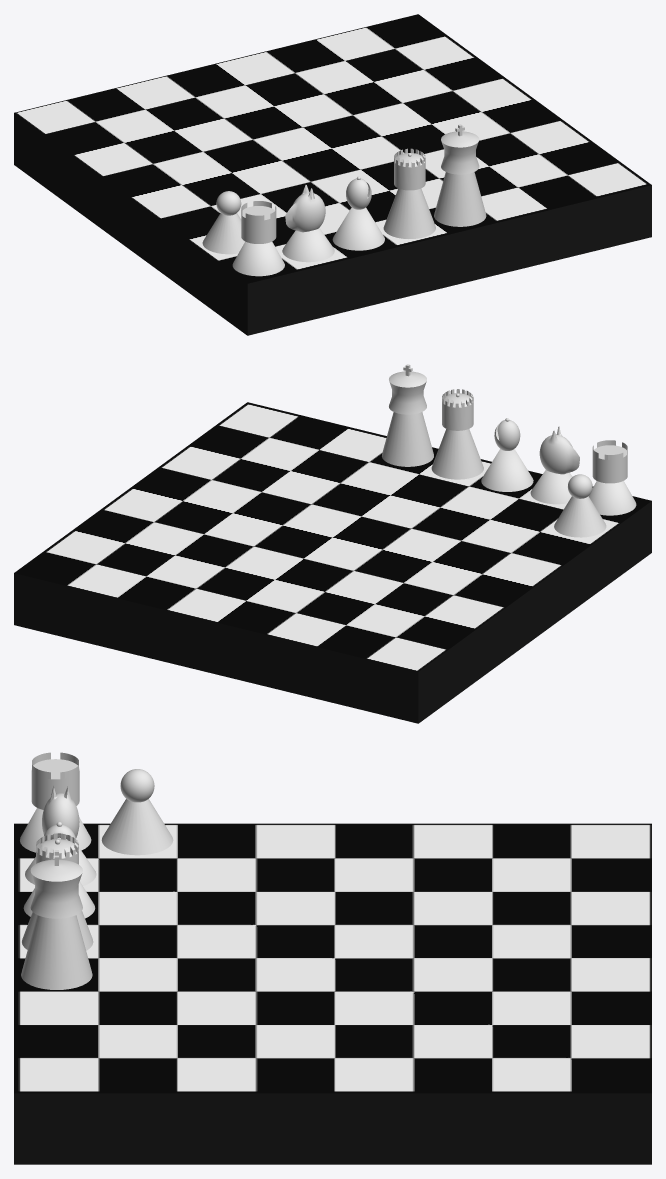
The model's file is ChessBoard.fbx.
The picture shows the model from 3 angles, top to bottom: view 1: azimuth 30°, elevation 25°; view 2: azimuth 150°, elevation 25°; view 3: azimuth 270°, elevation 25°; orthographic projection. The views are drawn at different scales.
Visible parts, largest first — view 1: ChessBoard, w.King.1, w.Queen.1, w.Rook.1, w.Knight.1, w.Bishop.1, w.Pawn.001; view 2: ChessBoard, w.King.1, w.Queen.1, w.Rook.1, w.Knight.1, w.Bishop.1, w.Pawn.001; view 3: ChessBoard, w.King.1, w.Pawn.001, w.Rook.1, w.Knight.1, w.Queen.1, w.Bishop.1.
Part boxes in pixels (<box>): ChessBoard: <box>14,14,651,335</box>; w.King.1: <box>434,124,486,226</box>; w.Queen.1: <box>383,148,435,238</box>; w.Rook.1: <box>232,201,284,276</box>; w.Knight.1: <box>282,185,334,262</box>; w.Bishop.1: <box>332,176,384,250</box>; w.Pawn.001: <box>202,191,244,254</box>; ChessBoard: <box>14,402,651,723</box>; w.King.1: <box>382,364,433,466</box>; w.Queen.1: <box>431,389,483,479</box>; w.Rook.1: <box>588,440,636,515</box>; w.Knight.1: <box>530,426,579,504</box>; w.Bishop.1: <box>481,418,533,491</box>; w.Pawn.001: <box>554,474,606,537</box>; ChessBoard: <box>14,823,651,1164</box>; w.King.1: <box>21,850,92,989</box>; w.Pawn.001: <box>101,769,173,855</box>; w.Rook.1: <box>20,752,91,852</box>; w.Knight.1: <box>25,786,96,885</box>; w.Queen.1: <box>22,833,93,950</box>; w.Bishop.1: <box>23,822,95,918</box>.
Bounding box in the file's own units: 17.81 × 6.04 × 17.81.
